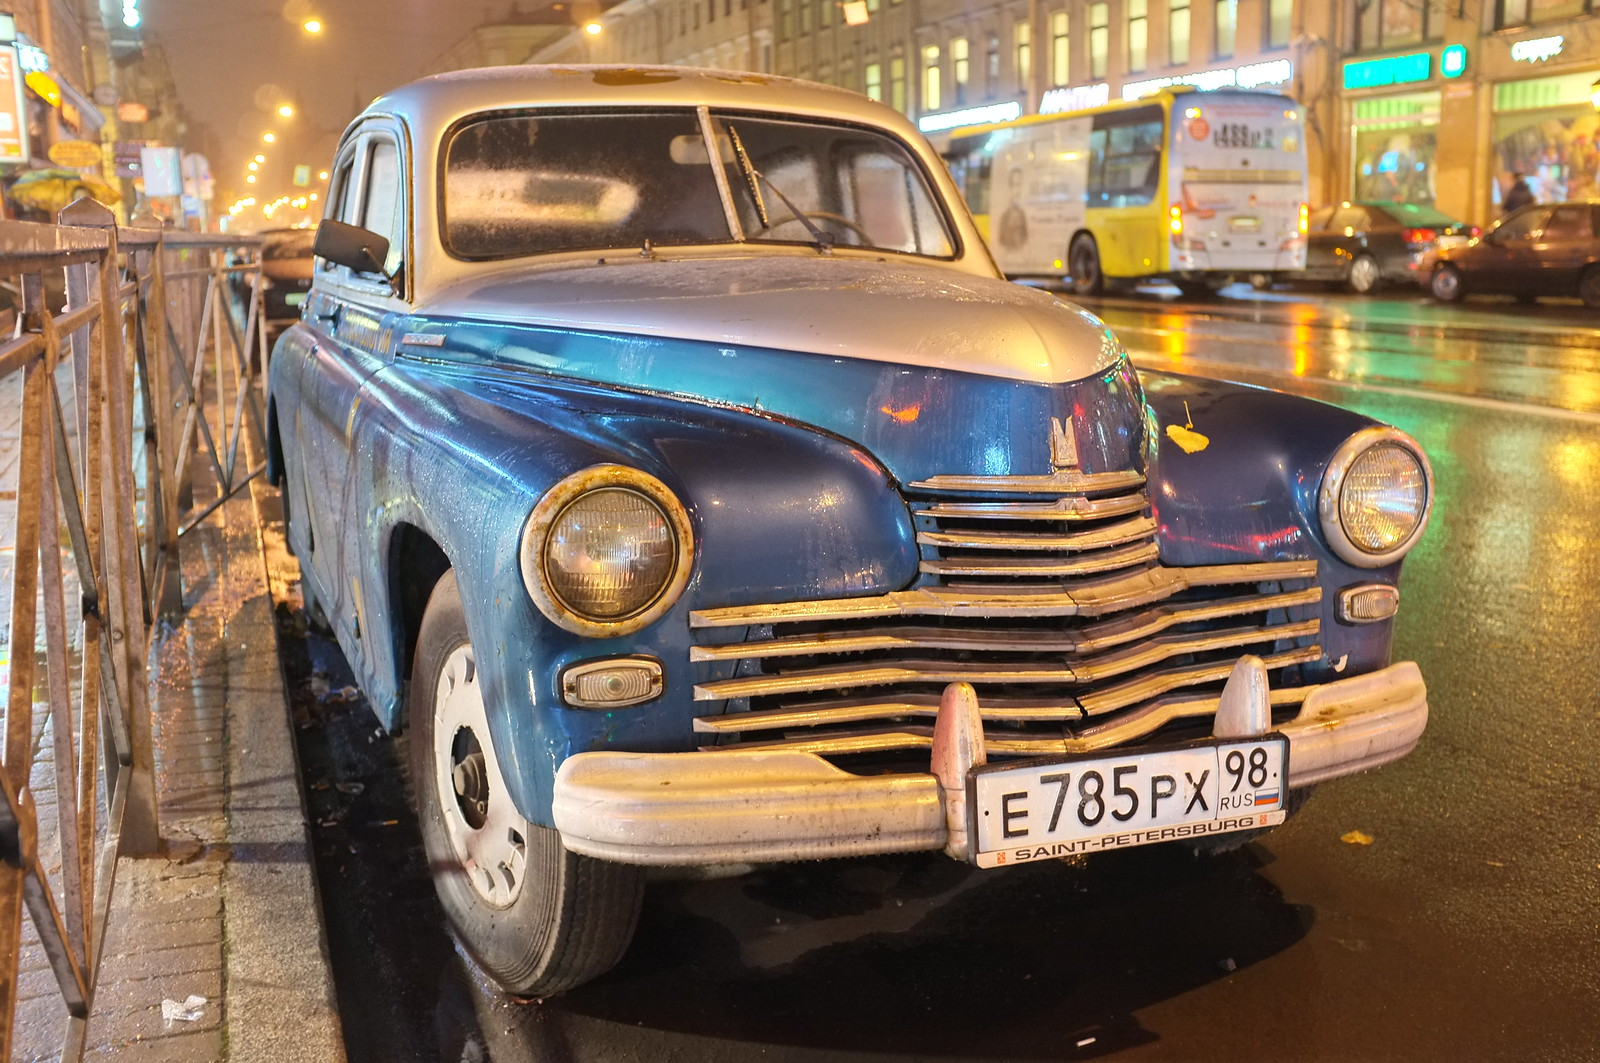car_front: (536, 394, 1432, 868)
plate: (976, 738, 1282, 855)
